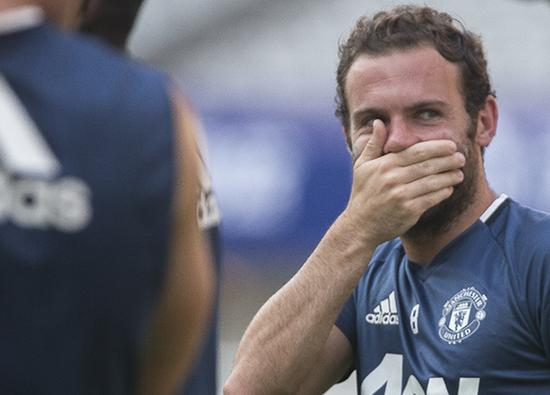face: (352, 54, 473, 214)
